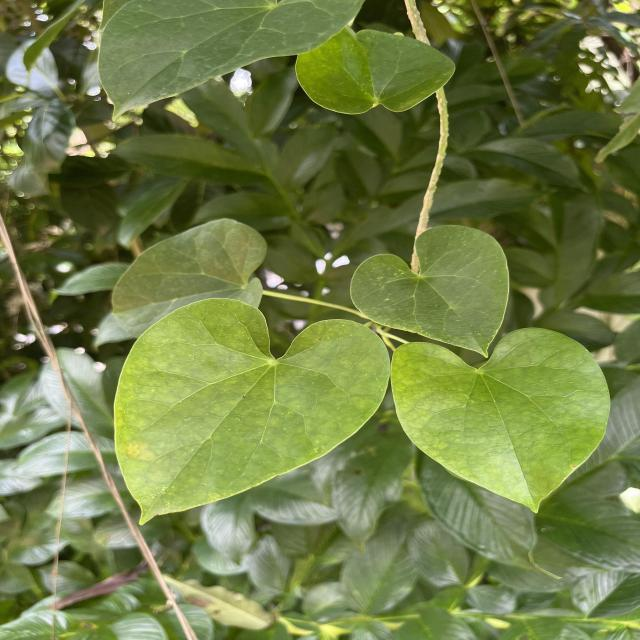Tinospora cordifolia: (109, 294, 392, 530), (388, 323, 614, 518), (346, 221, 514, 363)
